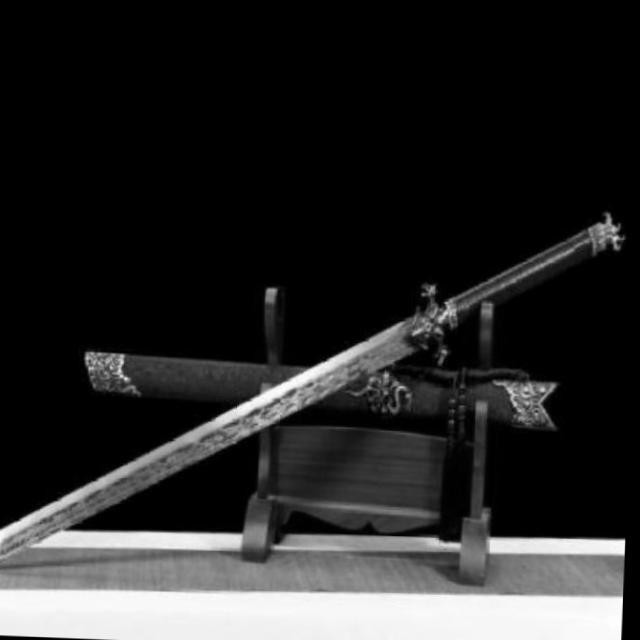weapon: (0, 185, 627, 594)
